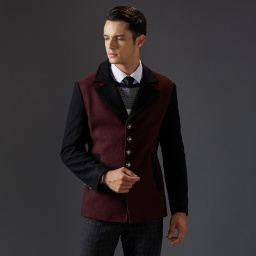face: (104, 7, 147, 65)
